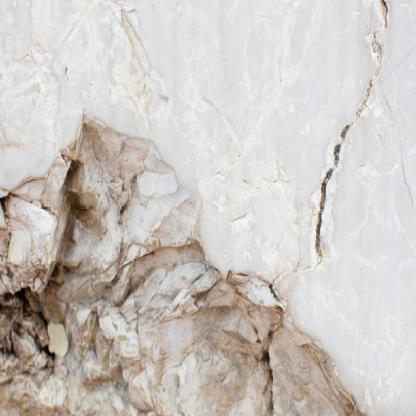Sedimentary_Limestone: (0, 0, 413, 415)
